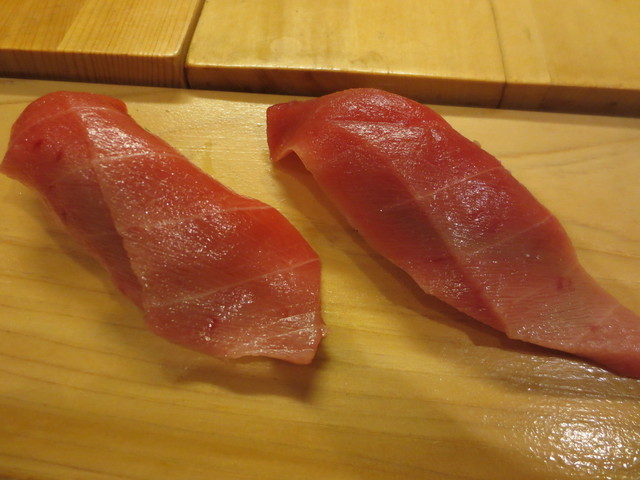medium_fatty_tuna: (268, 87, 640, 380), (3, 87, 325, 369)
